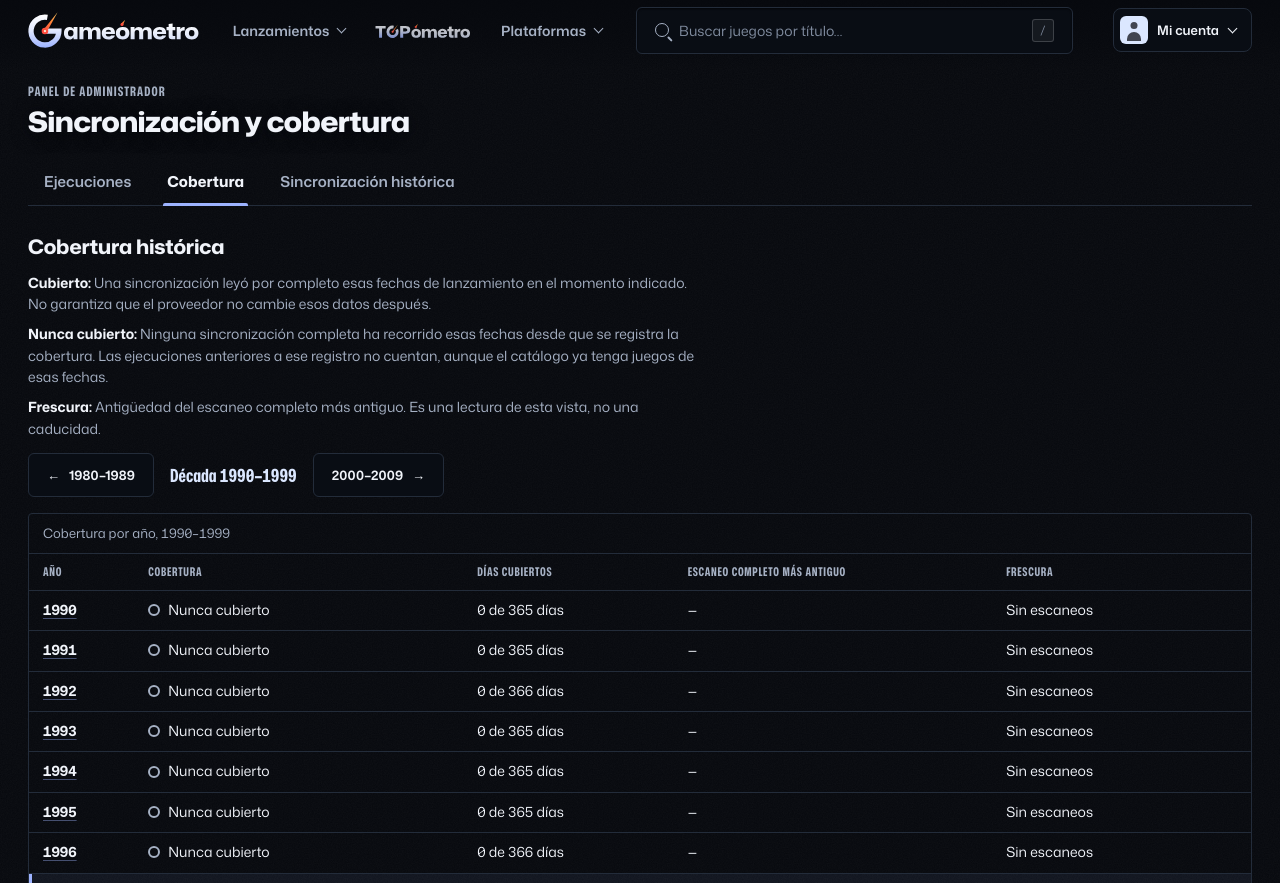
Test case: Catalogue administration › moves across decades with bounded ranges
Click the link "2000–2009 →": point(378, 476) [313,454,444,498]
(page scrolled)
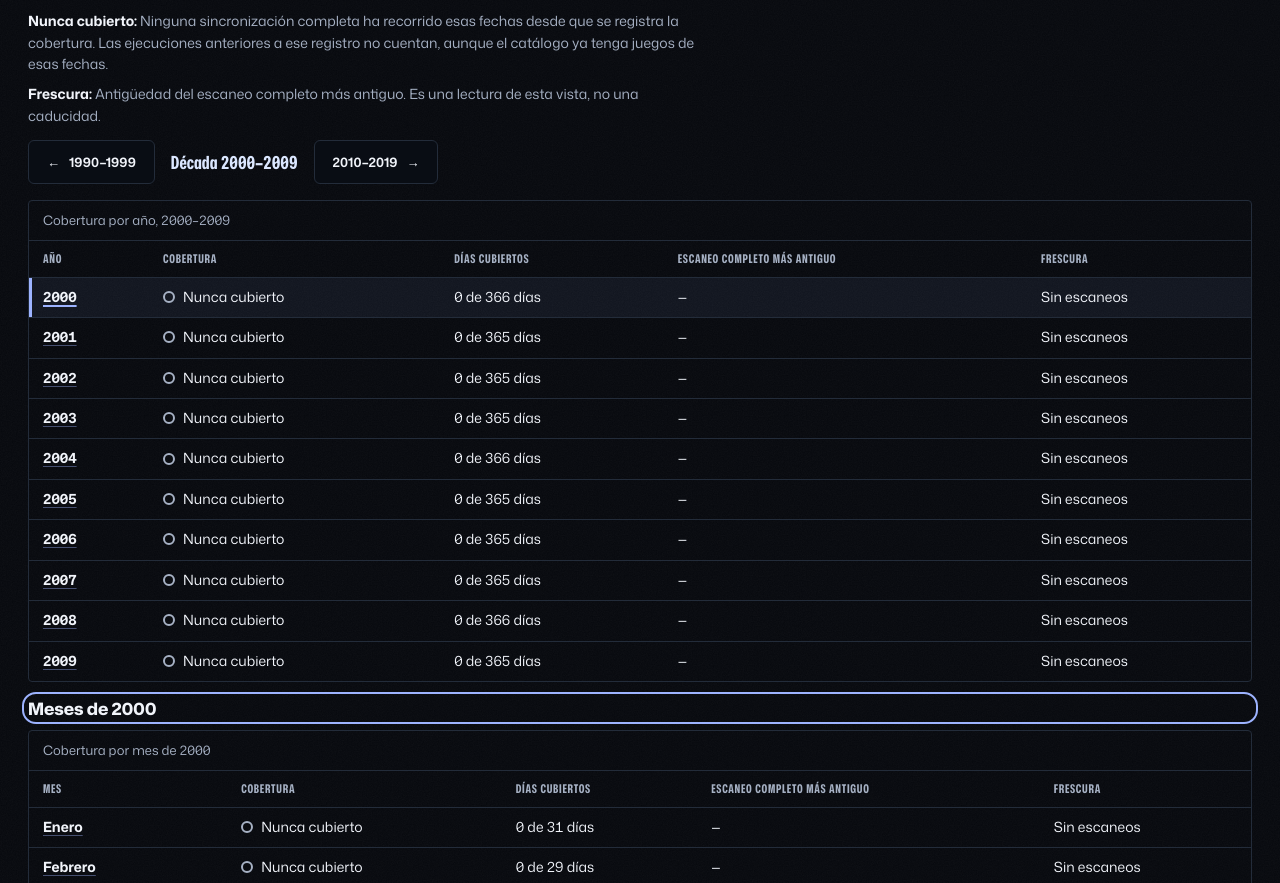
Expected: the table "Cobertura por año, 2000–2009" is shown, [29,202,1251,681]
